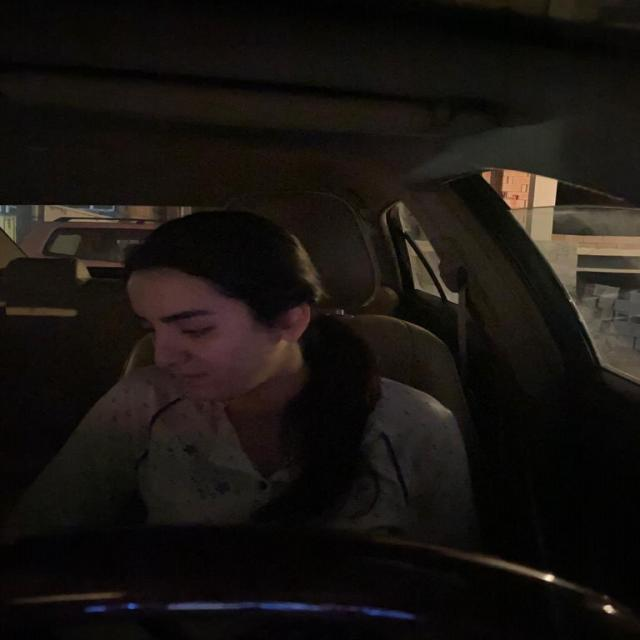drowsy: (120, 214, 324, 401)
